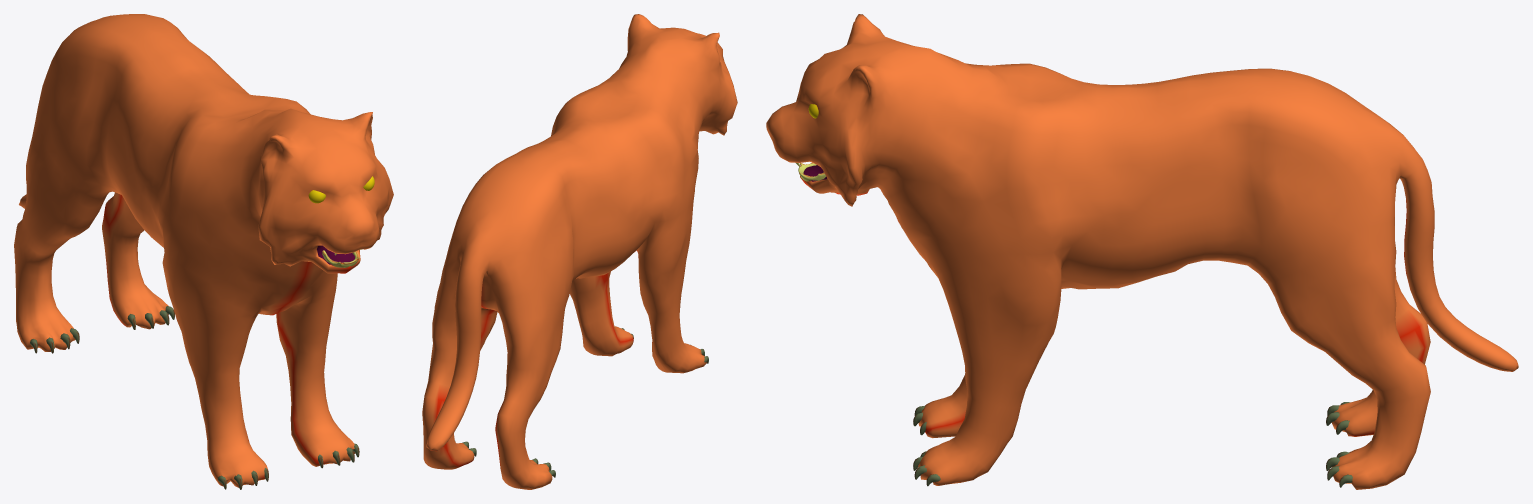
File: Dhumketu.fbx
3 renders of one model, left to right at view 1: azimuth 30°, elevation 25°; view 2: azimuth 150°, elevation 25°; view 3: azimuth 270°, elevation 25°, orthographic. The views are drawn at different scales.
Visible parts, largest first — view 1: Tiger_low; view 2: Tiger_low; view 3: Tiger_low.
Boxes of the visible parts, bbox=[...] form: Tiger_low: bbox=[14, 14, 393, 489]; Tiger_low: bbox=[422, 14, 737, 489]; Tiger_low: bbox=[766, 14, 1518, 489].
Bounding box in the file's own units: 13.58 × 30.81 × 50.65.
